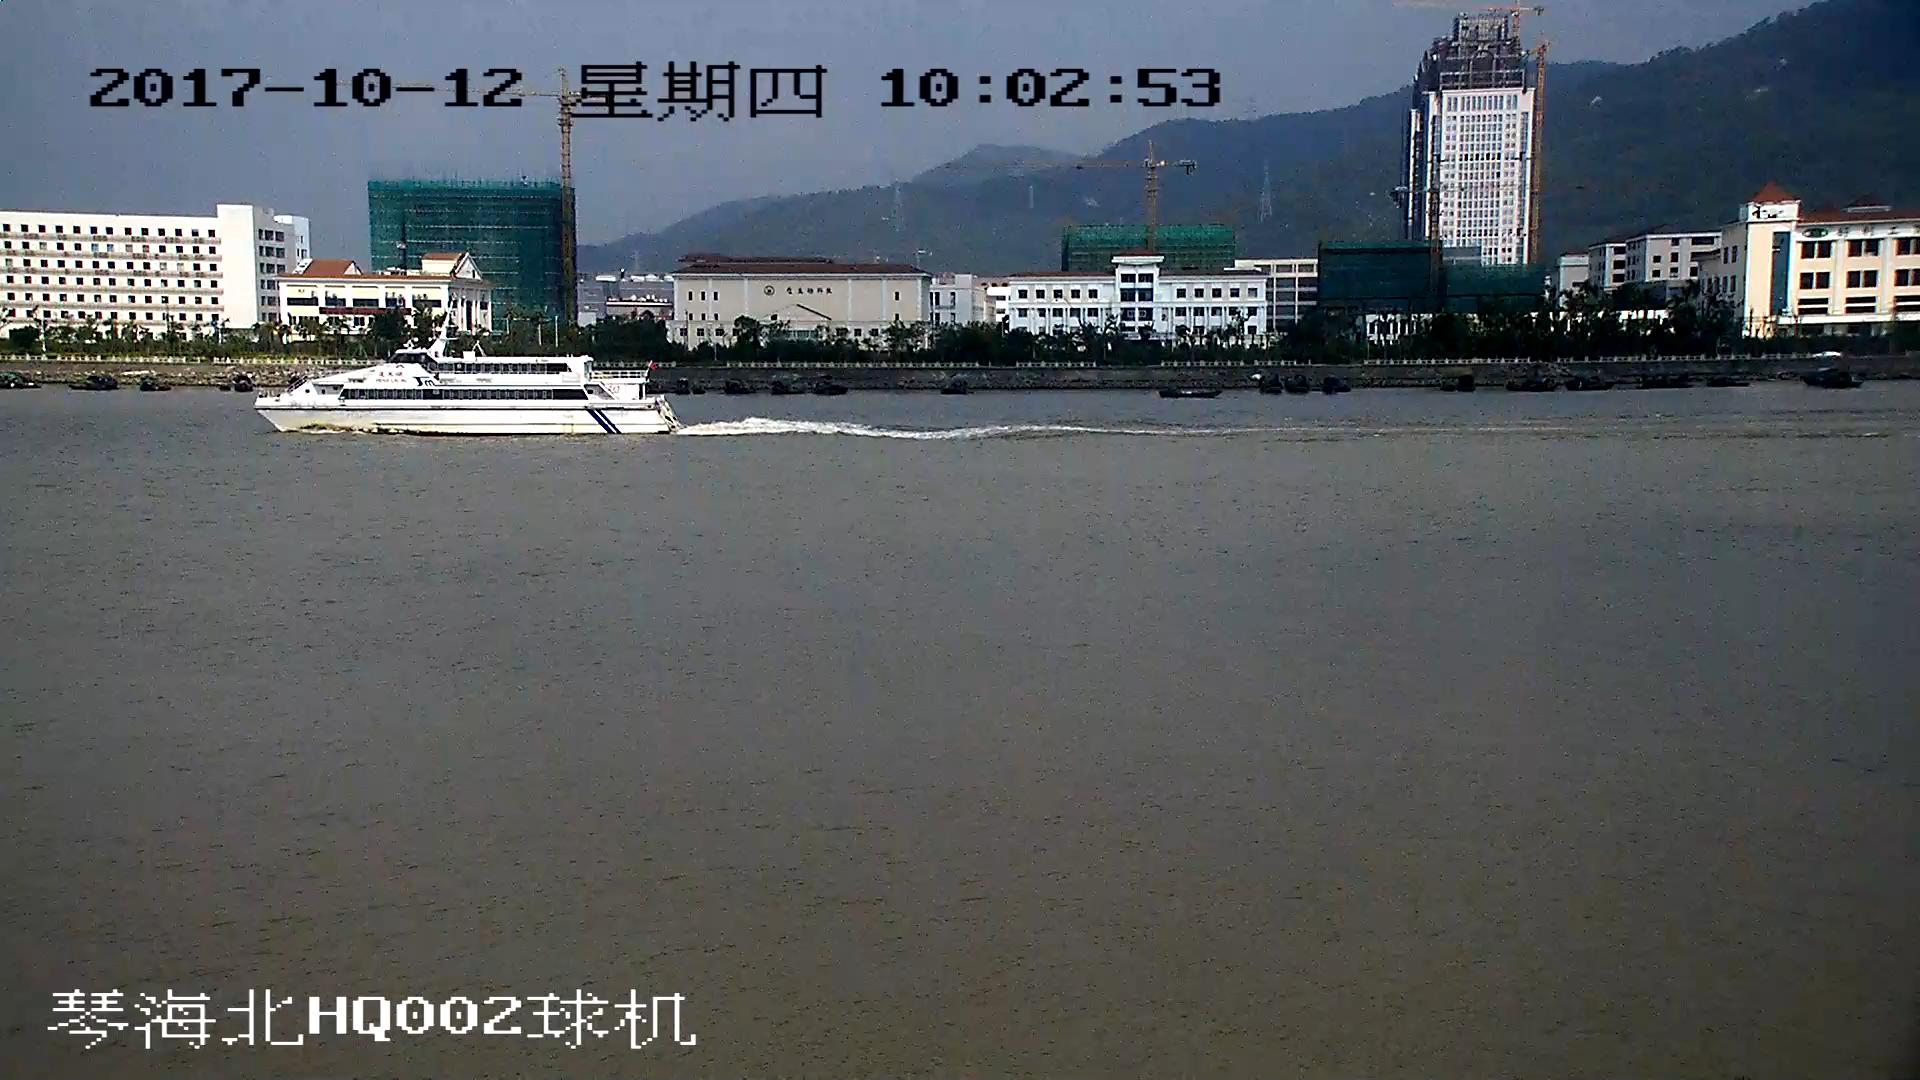passenger ship: (264, 304, 679, 439)
